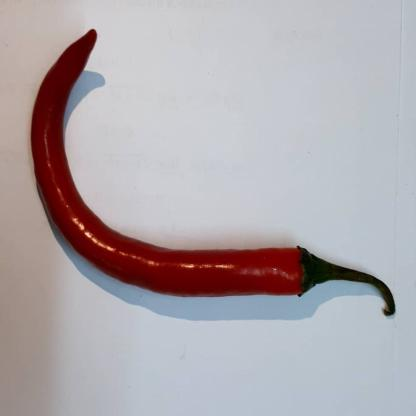chili: (31, 28, 396, 329)
